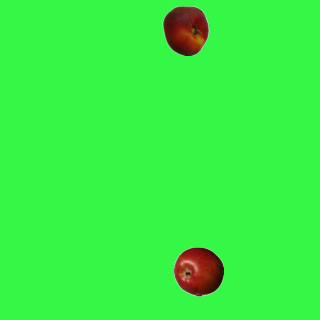Apple Braeburn: (173, 246, 223, 296)
Nectarine Flat: (160, 5, 210, 55)
